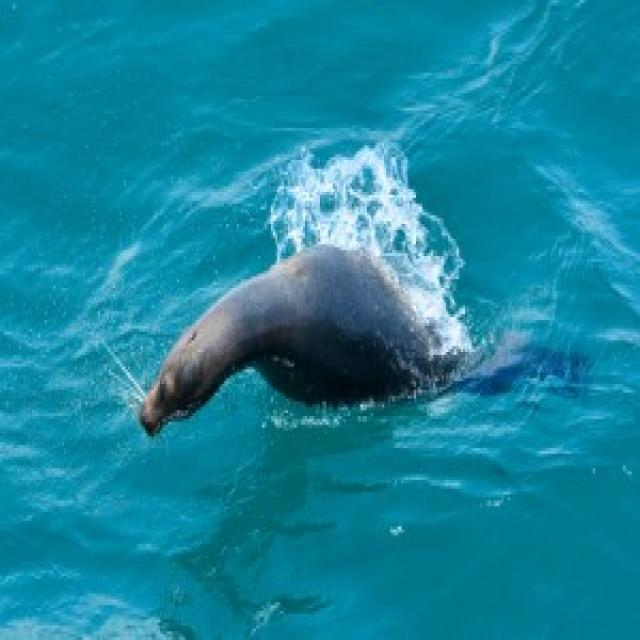Seal: (116, 239, 561, 446)
